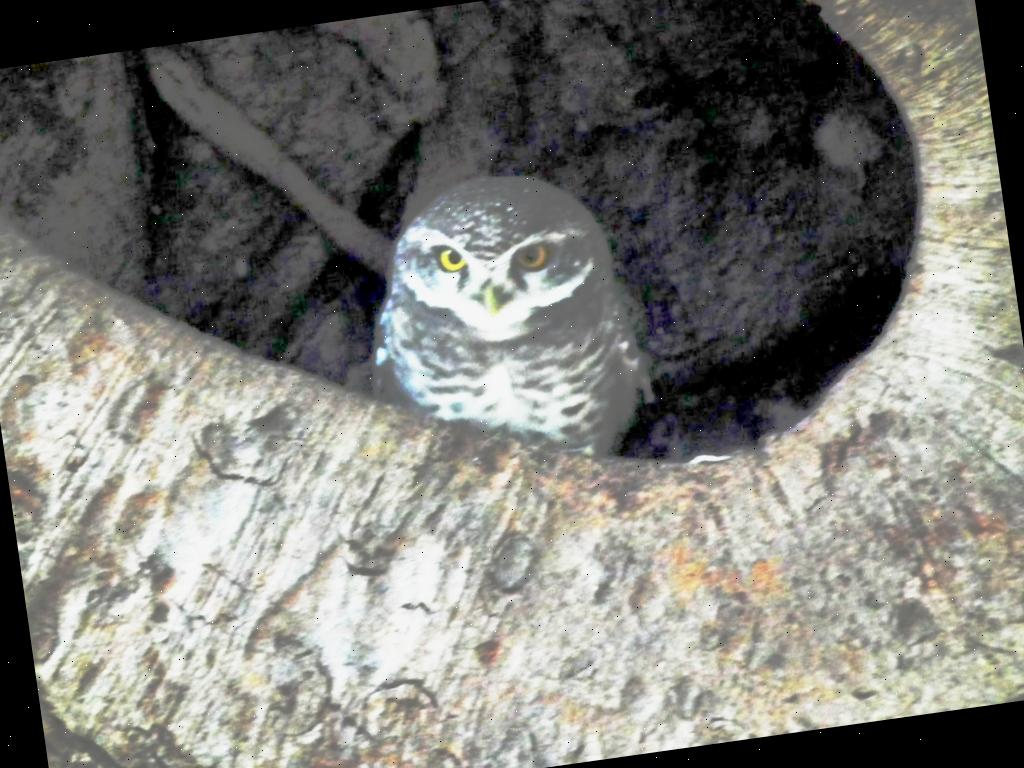Owl: (342, 157, 672, 486)
